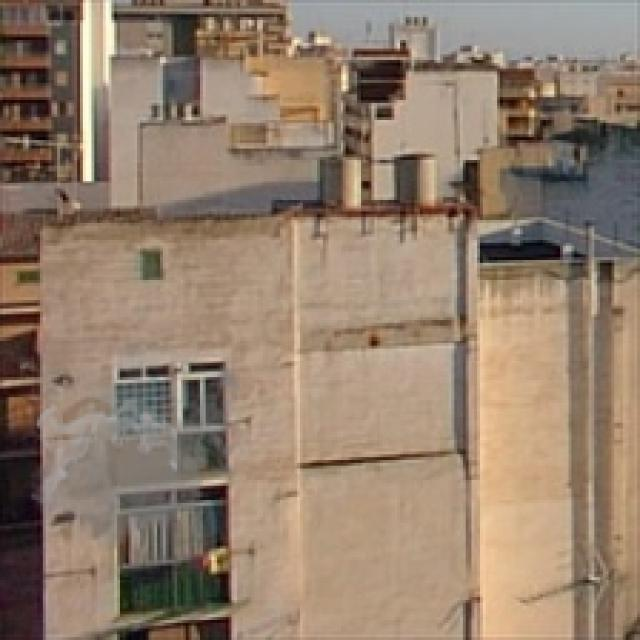Smoke: (28, 337, 245, 563)
